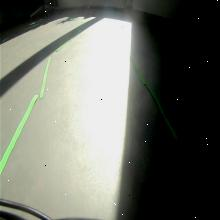crosswalk: (171, 50, 193, 77)
